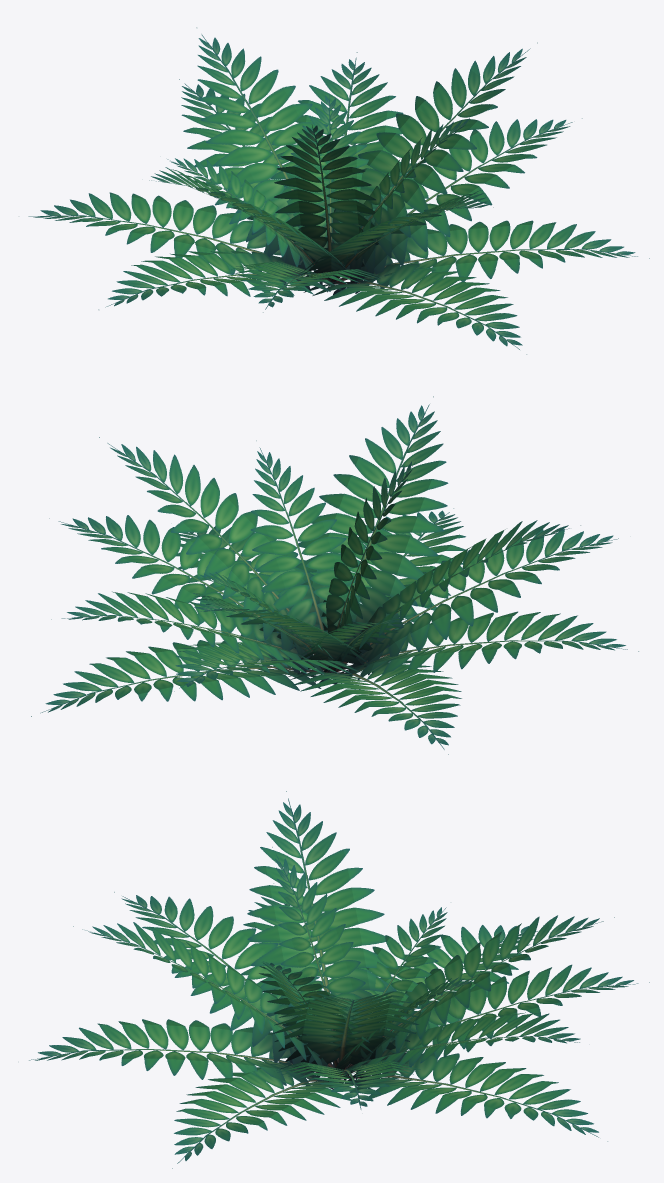
The model's file is Fern1.fbx.
3 renders of one model, top to bottom at view 1: azimuth 30°, elevation 25°; view 2: azimuth 150°, elevation 25°; view 3: azimuth 270°, elevation 25°, orthographic. The views are drawn at different scales.
Visible parts, largest first — view 1: Fern01; view 2: Fern01; view 3: Fern01.
Boxes of the visible parts, bbox=[...] form: Fern01: bbox=[28, 27, 649, 354]; Fern01: bbox=[31, 396, 638, 754]; Fern01: bbox=[29, 791, 649, 1168].
Size of the model in its own units: 384 by 140 by 389.
